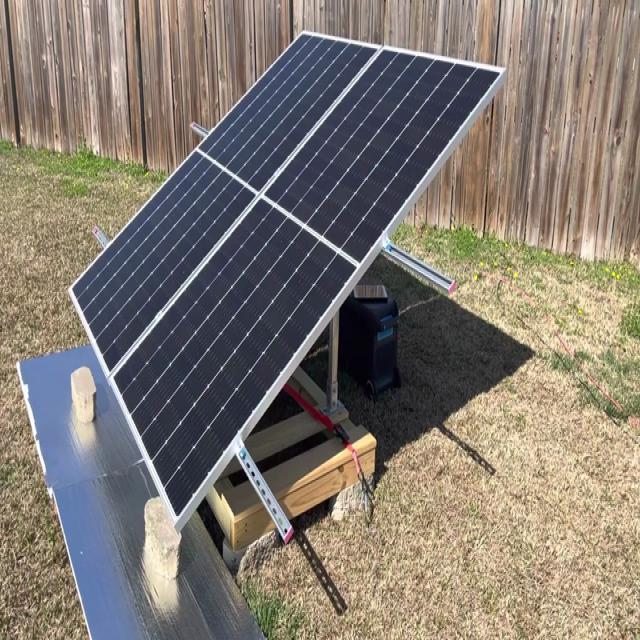Normal Solar Panel: (72, 33, 505, 522)
